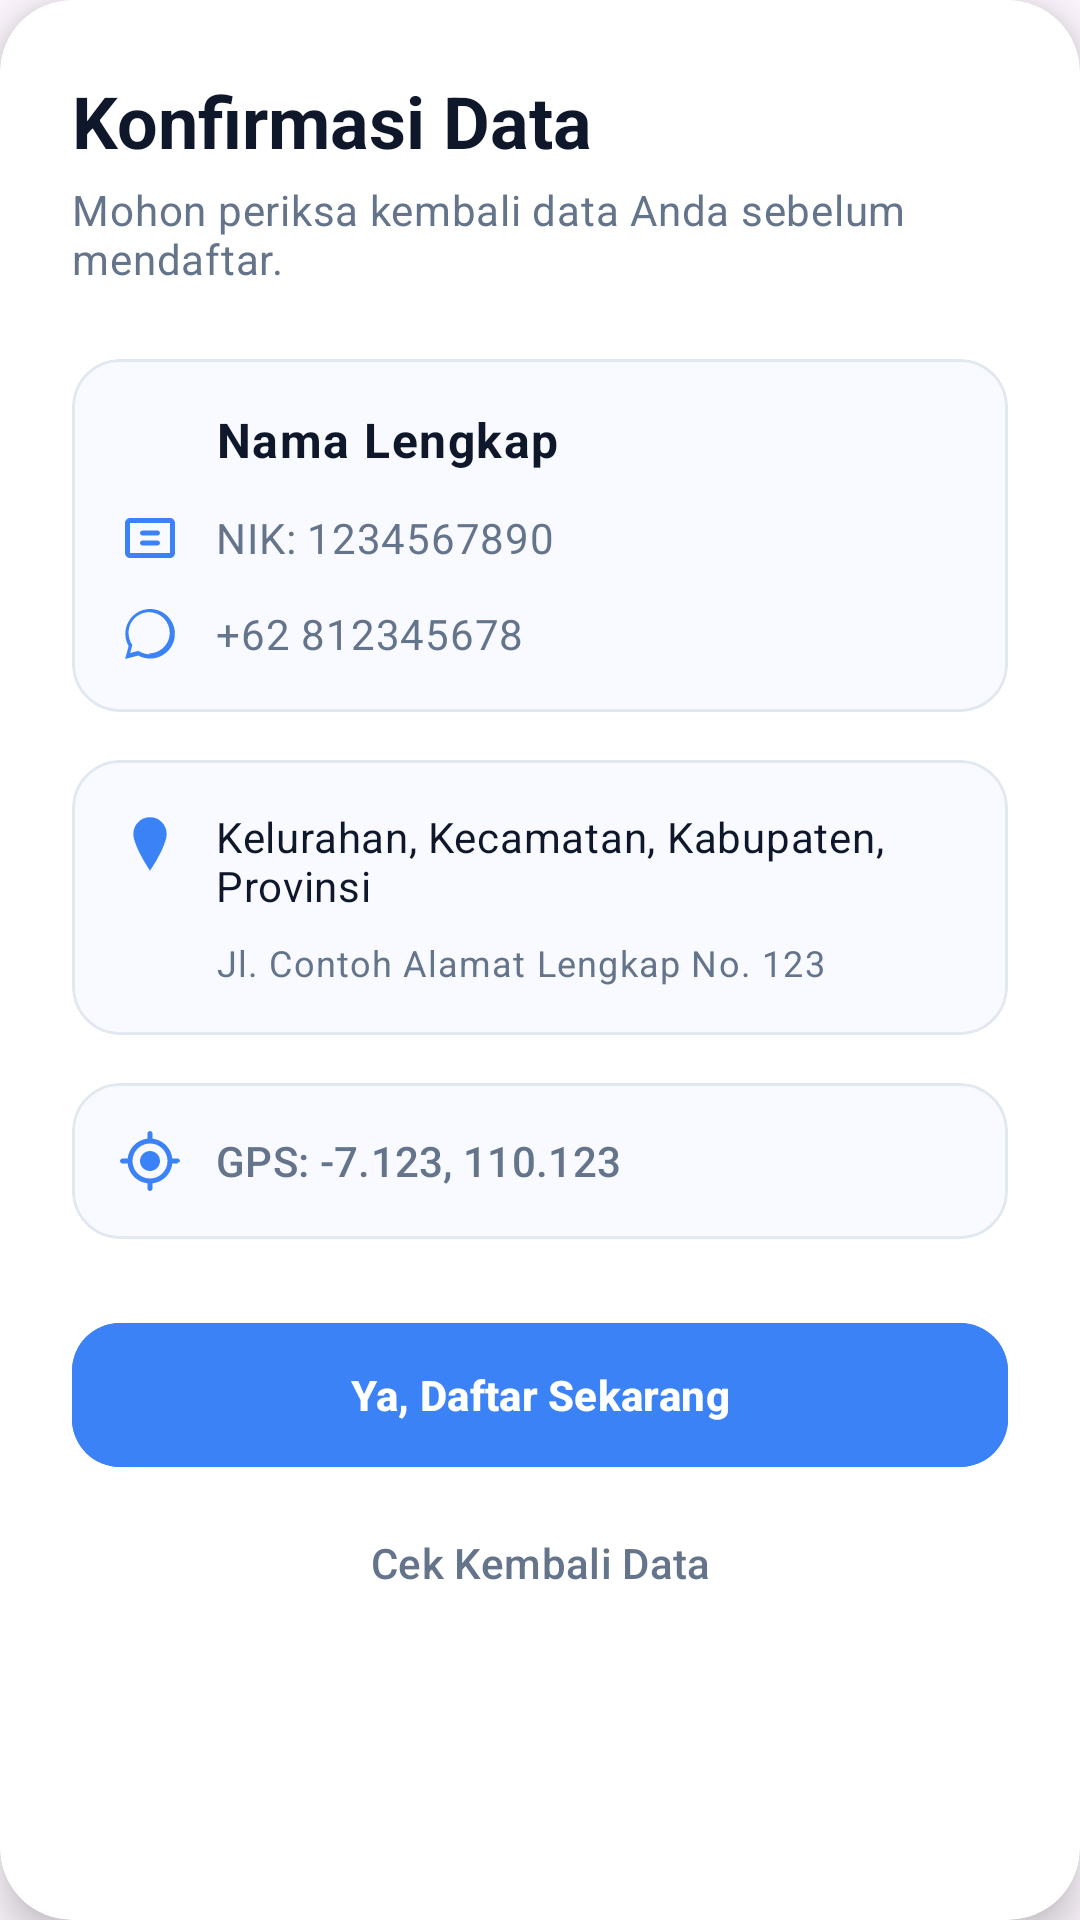

Icon click points for this 1080px x 1920px phone screenshot, format [x,y]:
id card: [150,538]
location: [150,1161]
location pin: [150,844]
